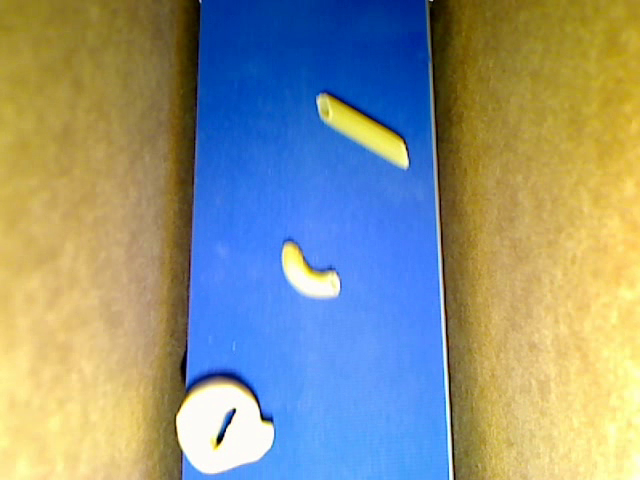elbow: (279, 238, 341, 300)
penne: (317, 92, 409, 168)
tortellini: (176, 380, 276, 474)
